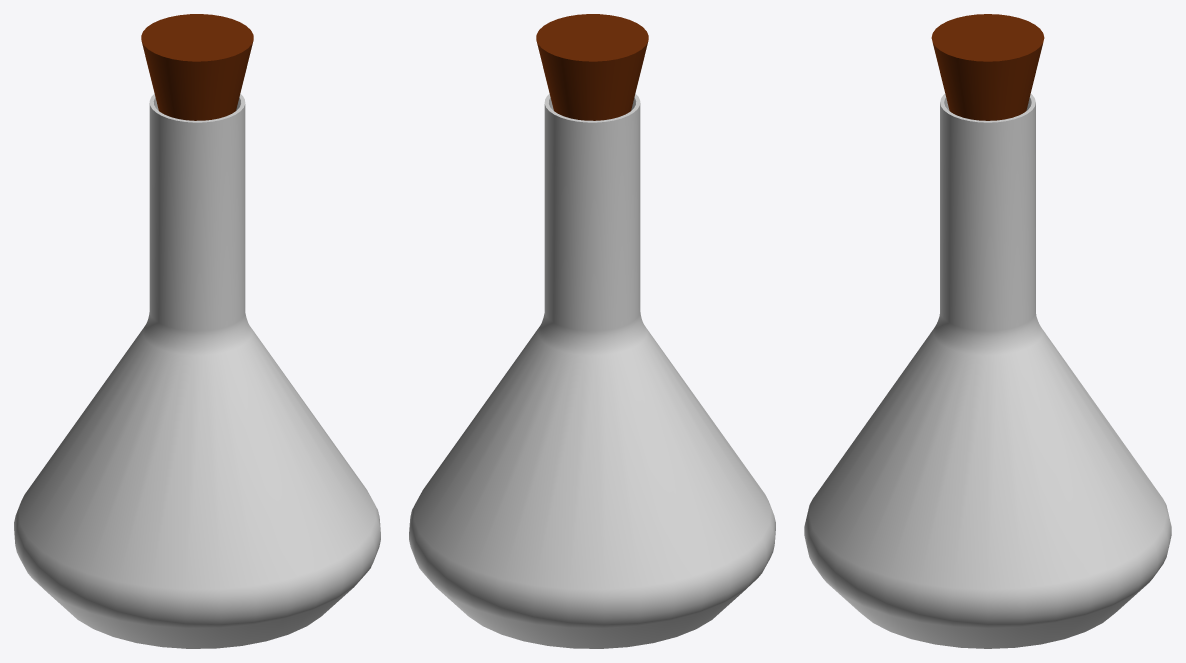
File: Potion_01.fbx
3 renders of one model, left to right at view 1: azimuth 30°, elevation 25°; view 2: azimuth 150°, elevation 25°; view 3: azimuth 270°, elevation 25°, orthographic.
Visible parts, largest first — view 1: Fiole, Bouchon; view 2: Fiole, Bouchon; view 3: Fiole, Bouchon.
Part boxes in pixels (x1,y1,x2,y2): Fiole: [14, 93, 380, 648]; Bouchon: [141, 14, 253, 120]; Fiole: [409, 93, 775, 648]; Bouchon: [536, 14, 648, 120]; Fiole: [804, 94, 1171, 648]; Bouchon: [931, 14, 1044, 120].
Bounding box in the file's own units: 266 × 442 × 266.
